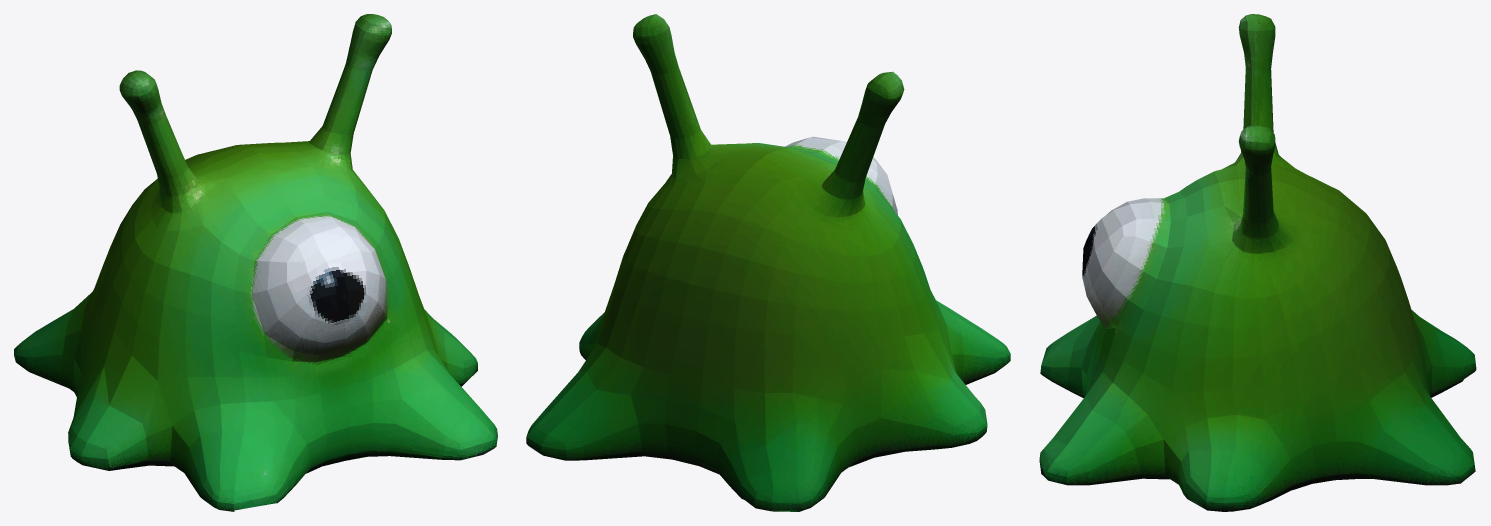
The model's file is item_brainslug_blue.glb.
The picture shows the model from 3 angles, left to right: view 1: azimuth 30°, elevation 25°; view 2: azimuth 150°, elevation 25°; view 3: azimuth 270°, elevation 25°; orthographic projection. The views are drawn at different scales.
Visible parts, largest first — view 1: BrainSlug; view 2: BrainSlug; view 3: BrainSlug.
Part boxes in pixels (box(x1,y1,x2,y2)): BrainSlug: box(14, 14, 497, 511); BrainSlug: box(526, 14, 1010, 511); BrainSlug: box(1039, 14, 1476, 511).
Size of the model in its own units: 0.4264 by 0.3671 by 0.4181.
Materials: 1 (1 with a texture image).
